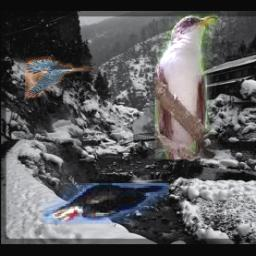Crow: (24, 57, 97, 98)
Cuckoo: (155, 14, 218, 159)
Woodpecker: (42, 184, 169, 225)
